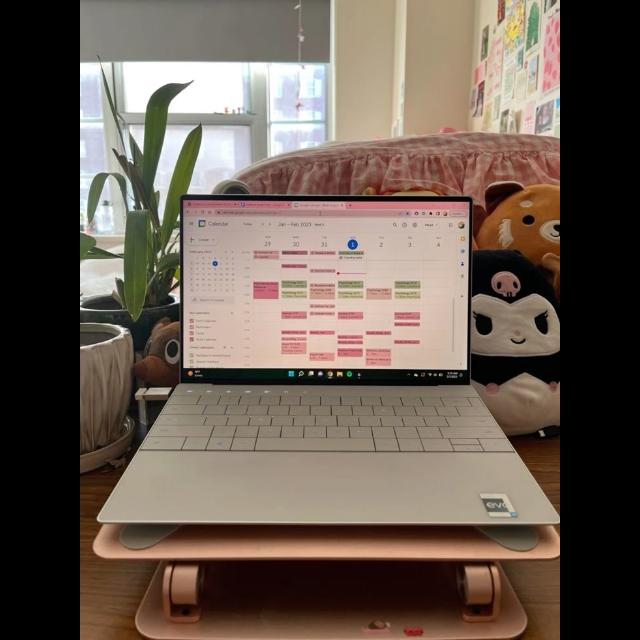laptop: (113, 200, 537, 550)
